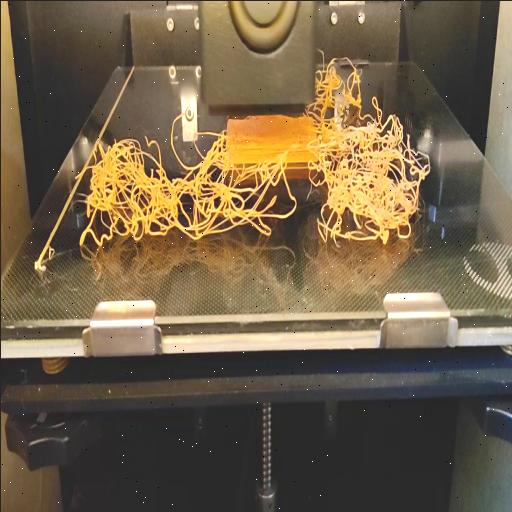spaghetti: (72, 114, 429, 254), (313, 42, 391, 115)
